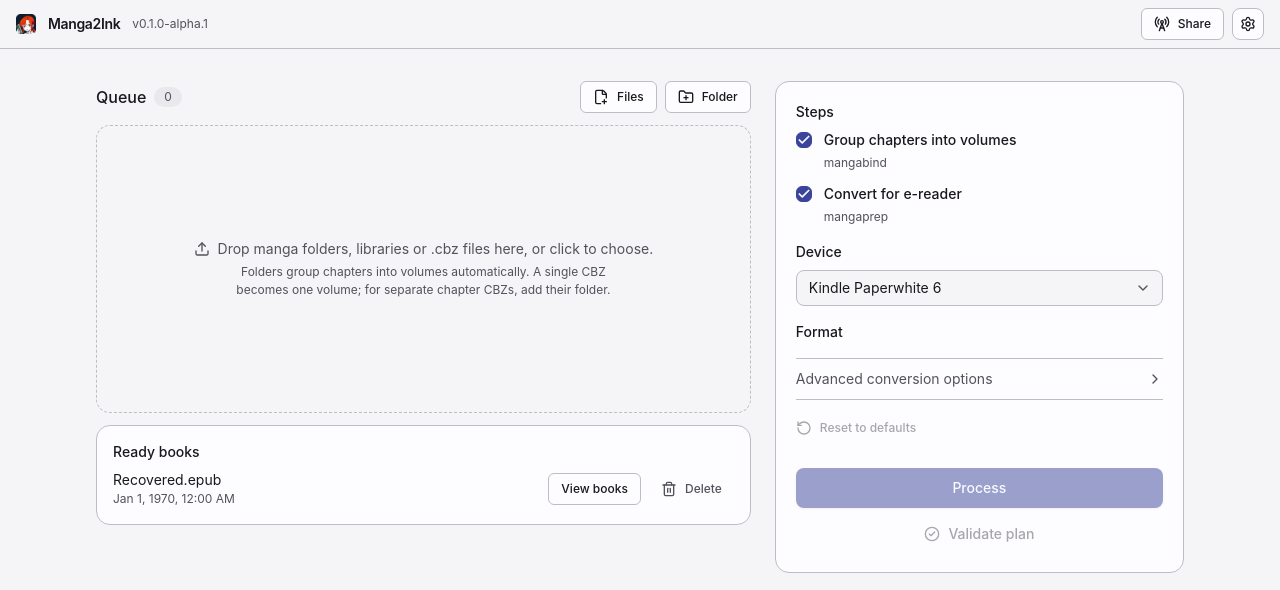
queue application workflow › recovers an unsaved book after reopening and lets it be saved without rerunning conversion
The width and height of the screenshot is (1280, 590).
Expected: the heading "Ready books" is shown, [113, 443, 200, 460]
Expected: the text "Recovered.epub" is shown, [113, 471, 221, 488]
Click the button with aria-label "View books from Recovered.epub".
click(595, 489)  # box [548, 473, 641, 505]
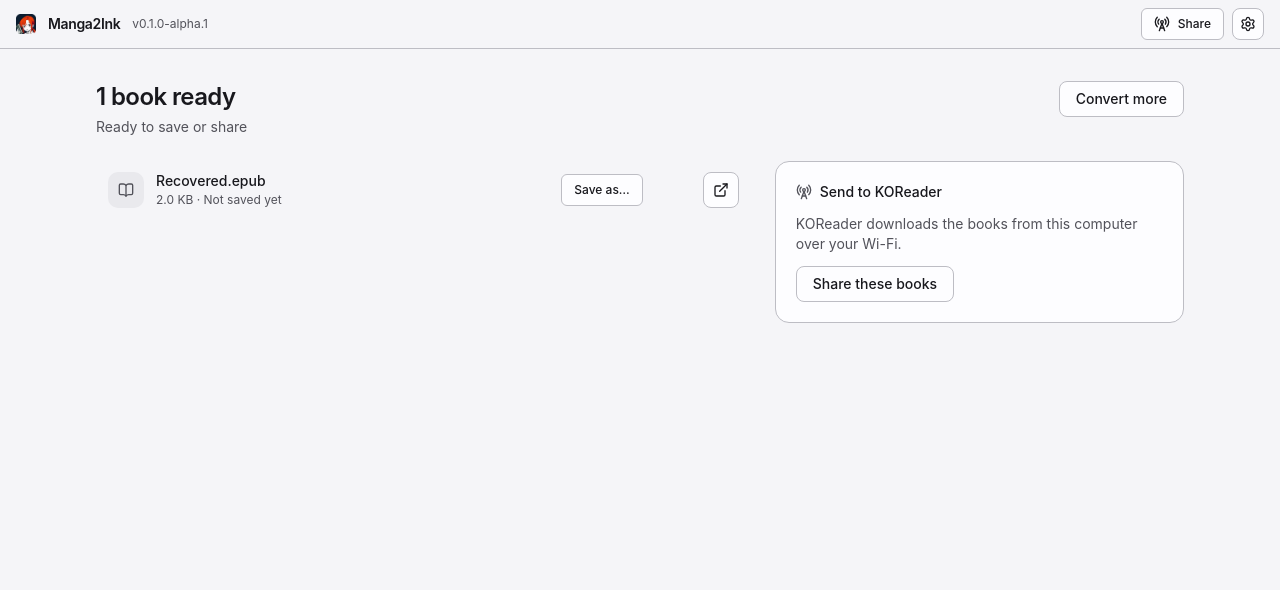
Now the heading "1 book ready" is shown, box [96, 81, 235, 113]
Now the text "Ready to save or share" is shown, box [96, 118, 247, 135]
Now the text "2.0 KB · Not saved yet" is shown, box [156, 192, 282, 207]
Click the button with aria-label "Save Recovered.epub as".
click(602, 190)  # box [561, 174, 643, 206]
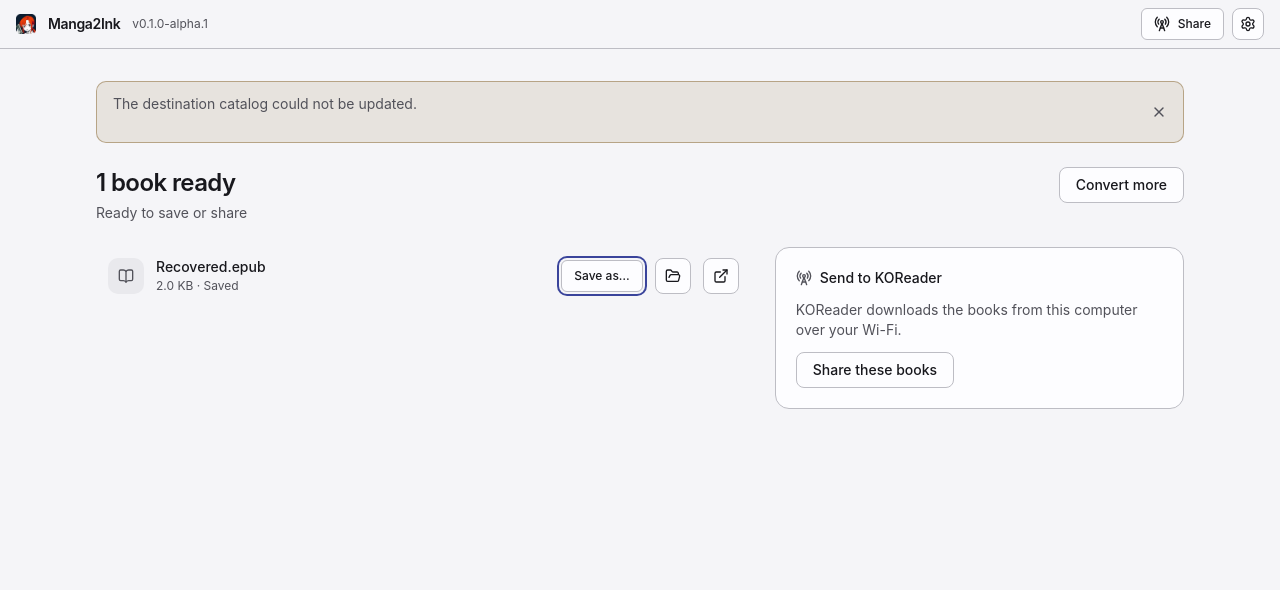
Now the text "2.0 KB · Saved" is shown, box [156, 278, 239, 293]
Now the list item "The destination catalog could not be updated." is shown, box [113, 95, 417, 112]
